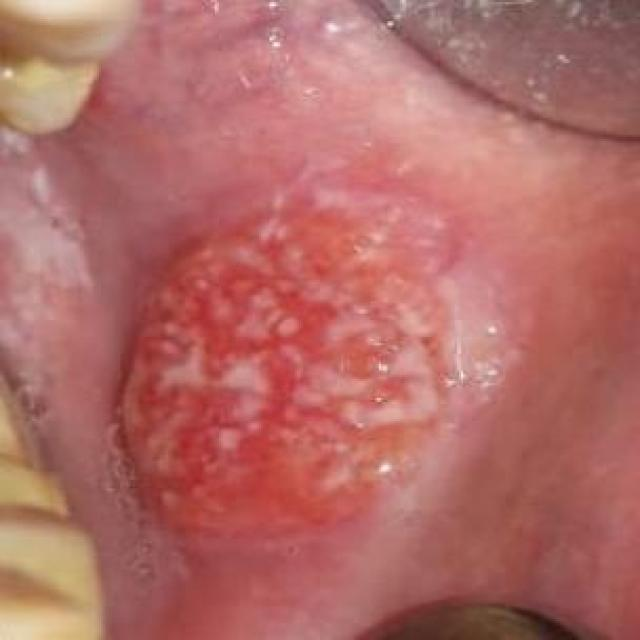cancer-detection: (107, 175, 513, 563)
processing_area: (0, 0, 638, 638)
